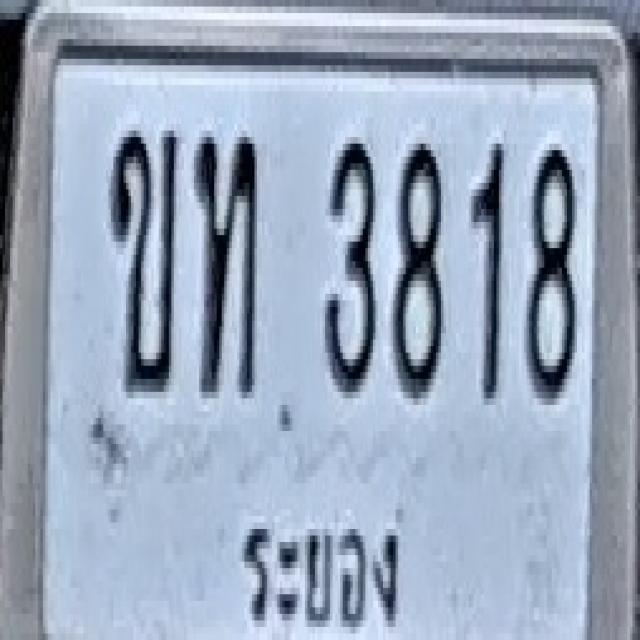-: (110, 124, 178, 392), (194, 127, 257, 395)
1: (470, 140, 505, 402)
3: (322, 134, 376, 395)
8: (392, 138, 442, 398), (525, 144, 576, 398)
RYG: (234, 485, 415, 640)
